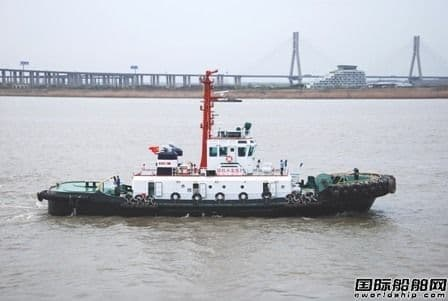otherboat: (32, 69, 401, 222)
